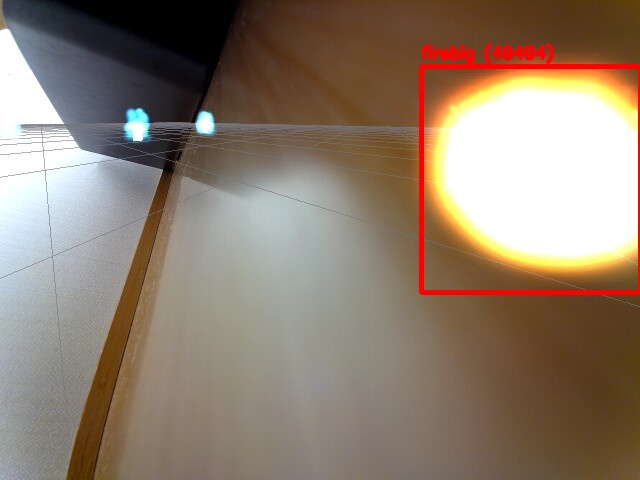firebig: (421, 66, 640, 292)
